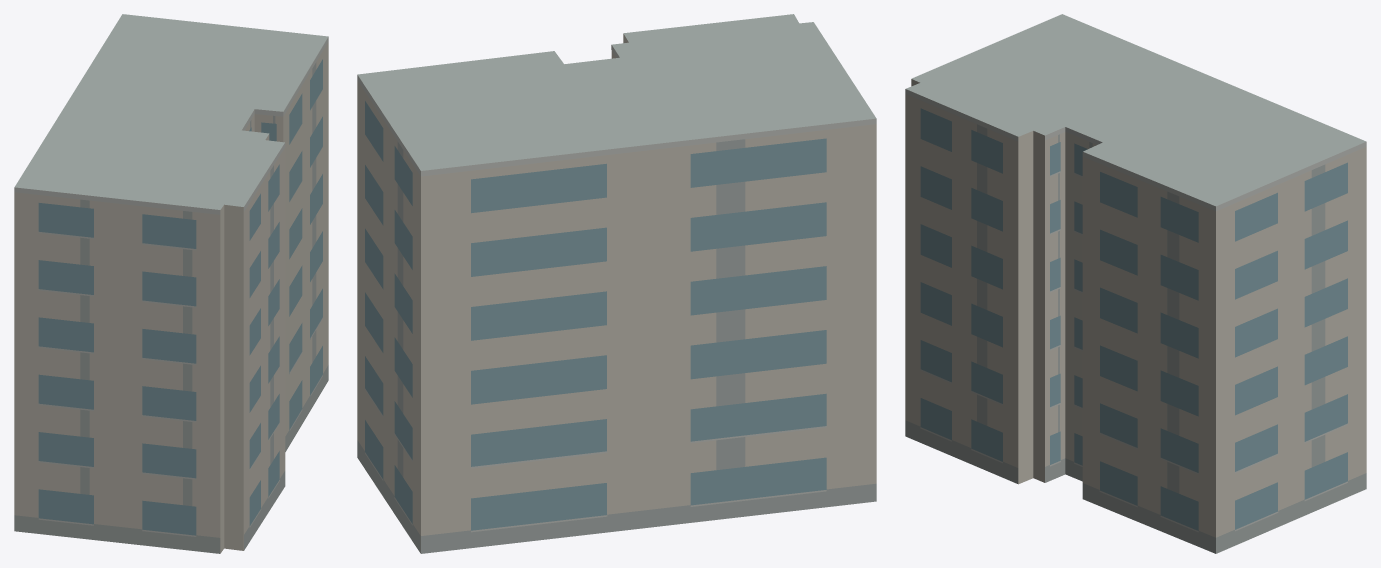
Rendered from survey-upis-32969208.glb.
The picture shows the model from 3 angles, left to right: view 1: azimuth 30°, elevation 25°; view 2: azimuth 150°, elevation 25°; view 3: azimuth 270°, elevation 25°; orthographic projection. The views are drawn at different scales.
Parts seen in each view (by area): view 1: survey-upis-32969208.tmp; view 2: survey-upis-32969208.tmp; view 3: survey-upis-32969208.tmp.
Boxes of the visible parts, bbox=[...] form: survey-upis-32969208.tmp: bbox=[14, 14, 328, 553]; survey-upis-32969208.tmp: bbox=[357, 14, 876, 553]; survey-upis-32969208.tmp: bbox=[905, 14, 1366, 553].
Bounding box in the file's own units: 20.2 × 17 × 20.46.
